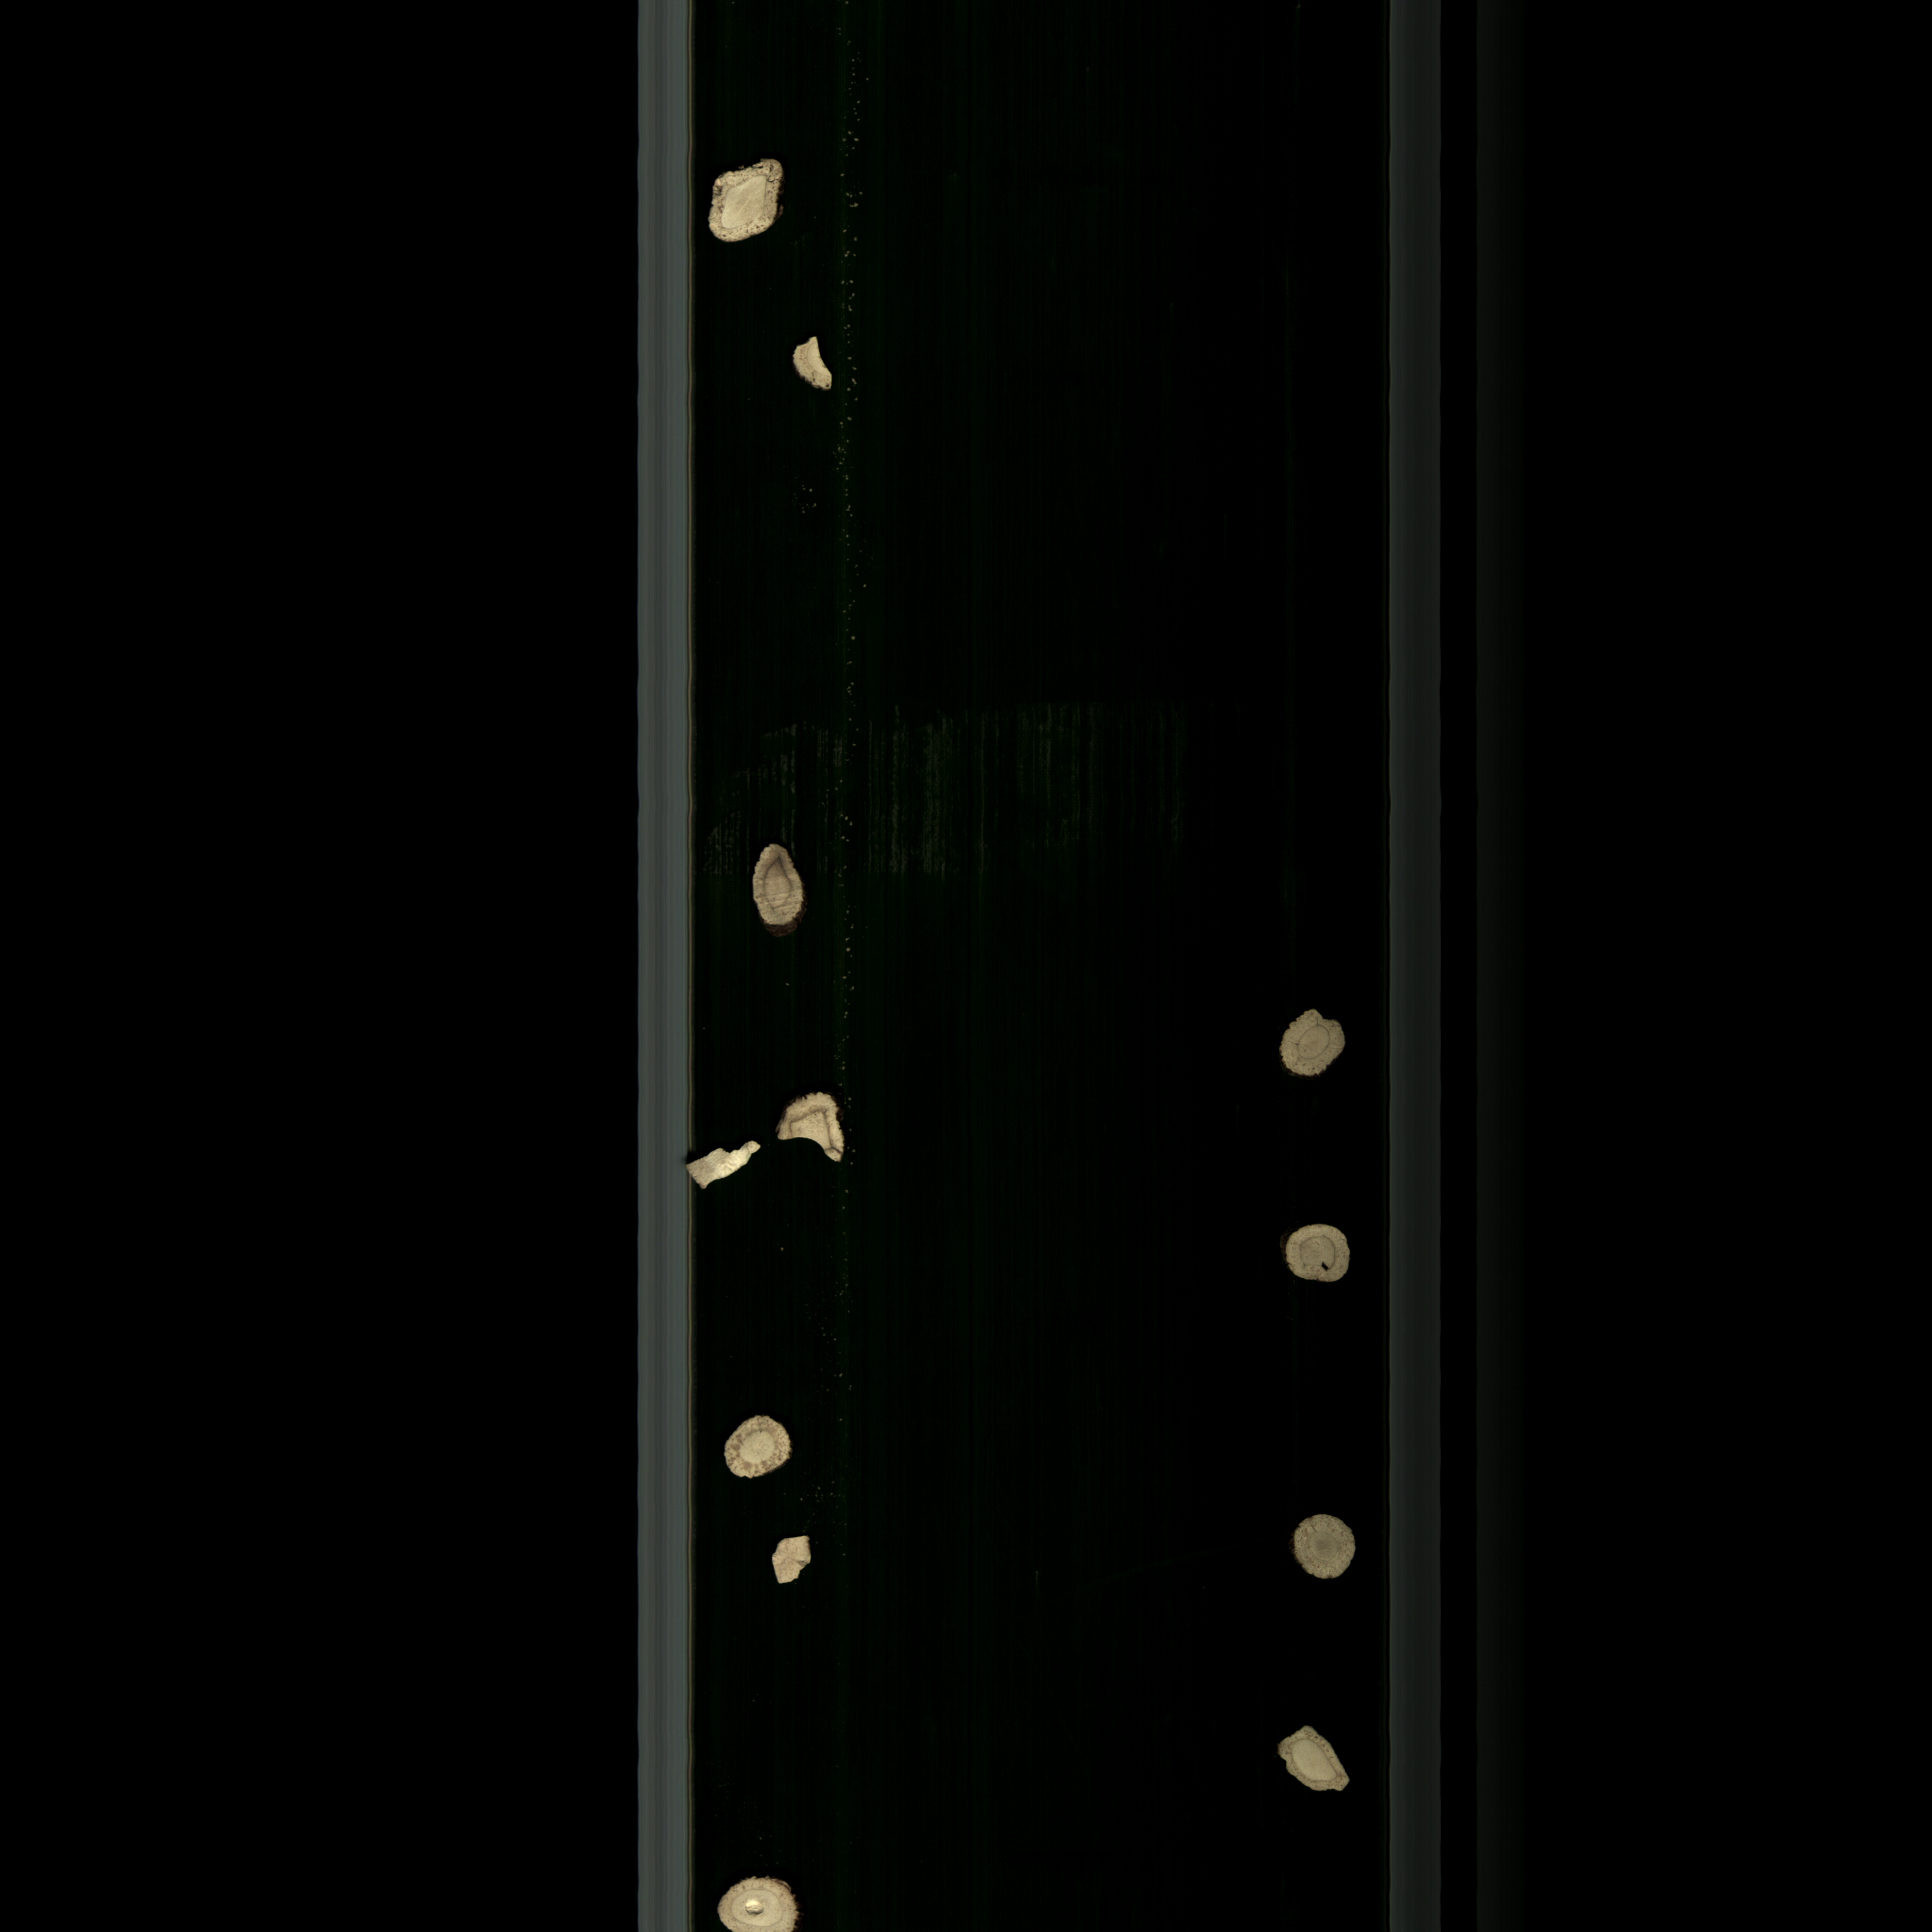debris: (766, 1085, 855, 1171)
distortion: (704, 152, 789, 258), (1274, 1716, 1359, 1810), (741, 840, 810, 947), (678, 1136, 766, 1194), (759, 1523, 816, 1591)
dreg: (786, 333, 844, 400)
hole: (1269, 1214, 1368, 1302), (704, 1867, 816, 1932)
moldy: (1261, 998, 1352, 1090), (1276, 1504, 1368, 1587), (709, 1412, 812, 1484)
